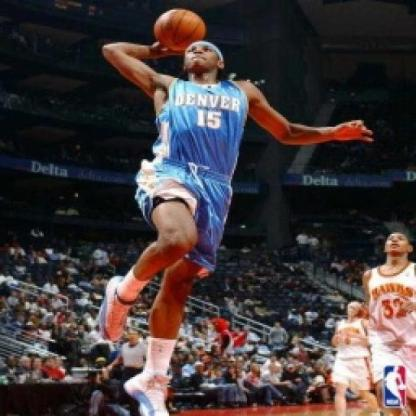basketball: (153, 2, 206, 58)
